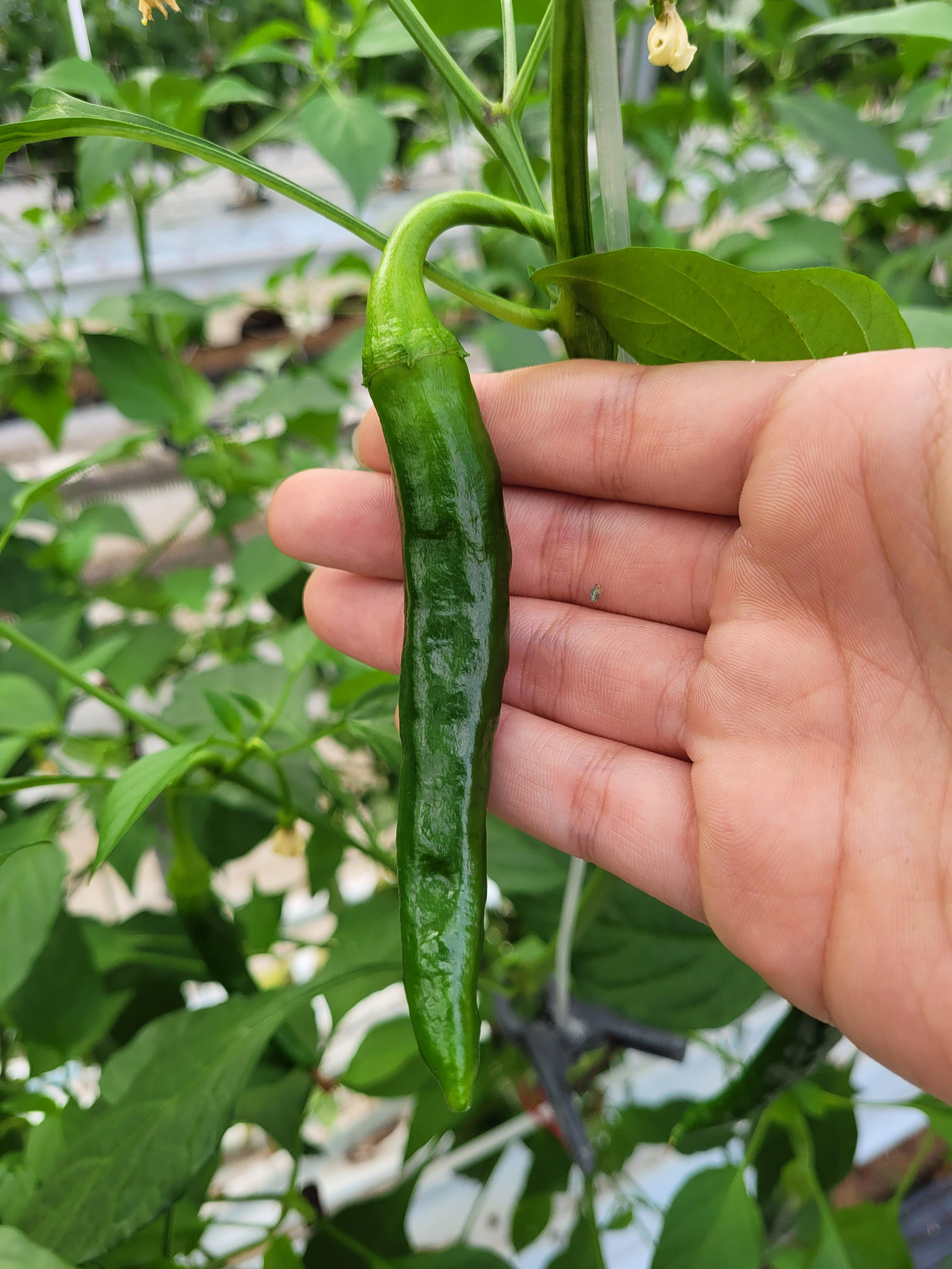Buah Cabai Sehat: (356, 284, 518, 1113)
